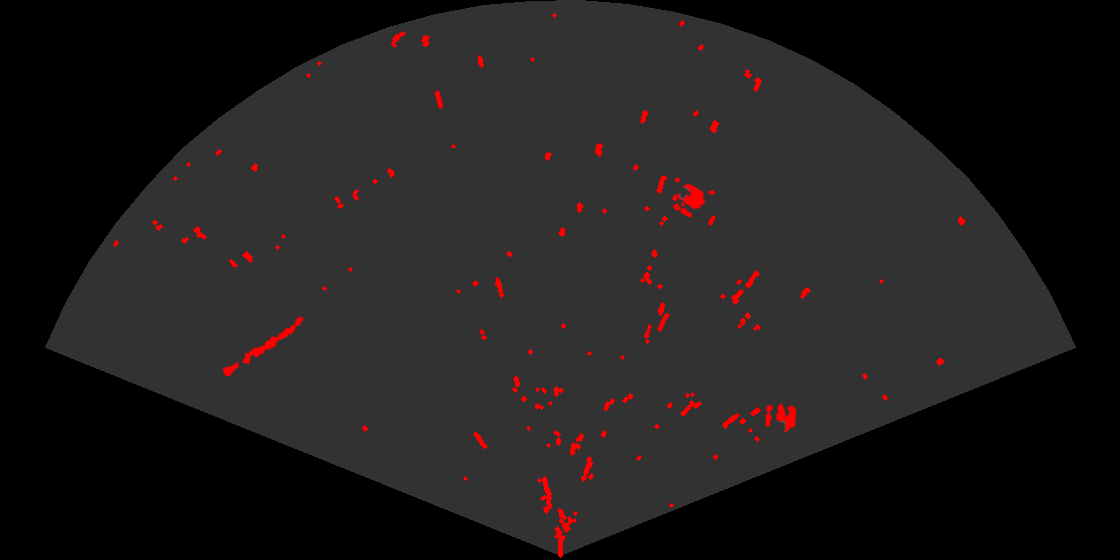ball: (671, 182, 707, 219), (764, 402, 798, 434)
chain: (221, 315, 305, 378)
